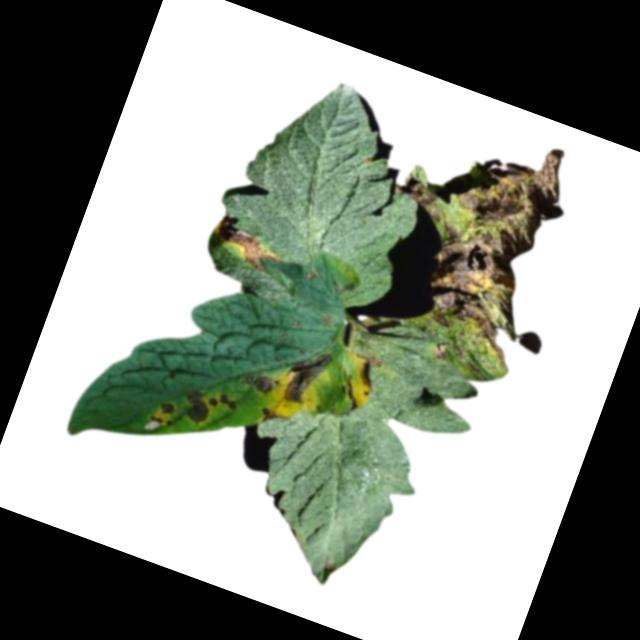Early_blight: (341, 99, 584, 390), (206, 209, 300, 282), (276, 341, 335, 414), (186, 381, 242, 433), (346, 348, 388, 397), (240, 365, 278, 397), (147, 394, 178, 428), (256, 405, 288, 430)
